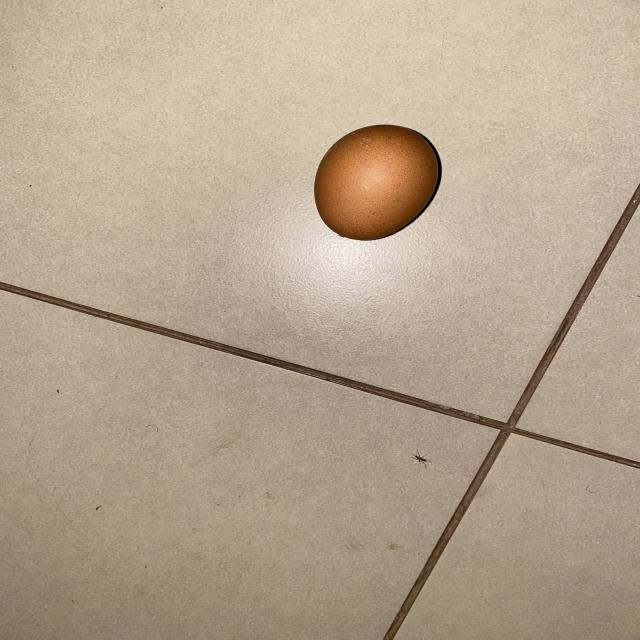egg: (309, 118, 451, 243)
